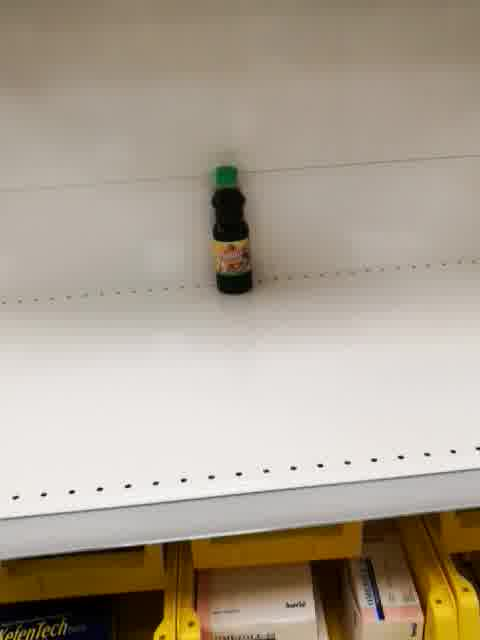cookingoil: (207, 165, 257, 296)
